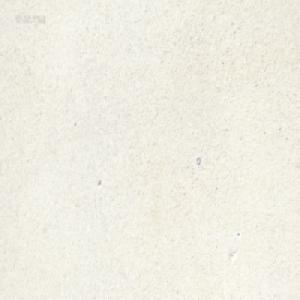Washer: (195, 156, 200, 165)
